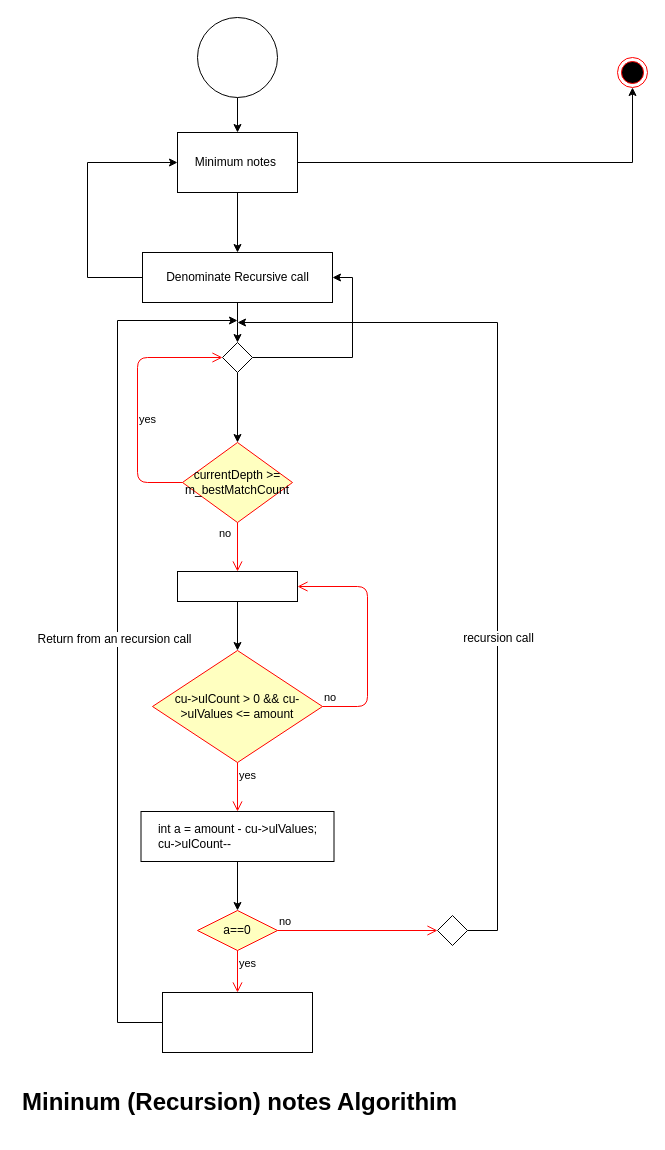
Image size: 665x1150. Some labels were removed from this diagram. Each missing label, with the centre of its shape:
get number of bills as difference from original: point (237, 1022)
i < casunit.count: point (237, 586)
Start: point (237, 57)
